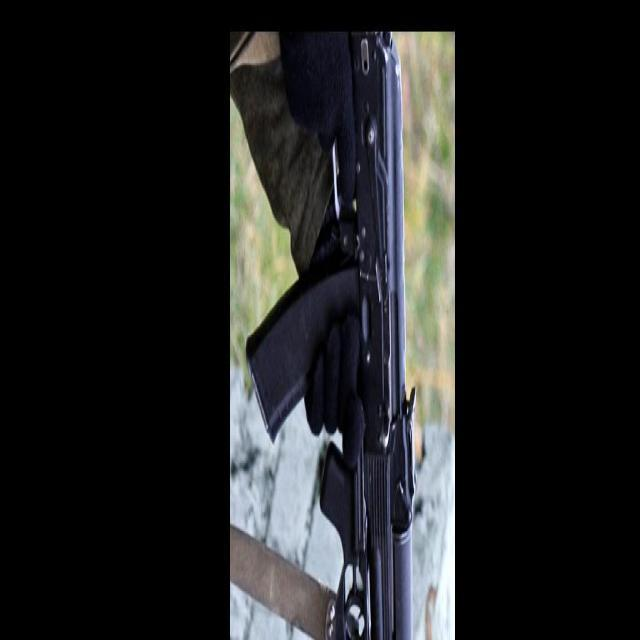weapon: (246, 34, 420, 640)
